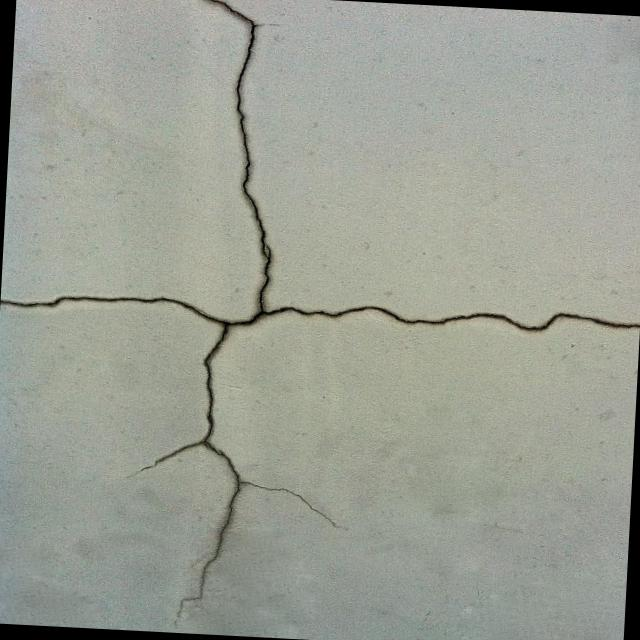crack: (1, 0, 345, 627), (266, 304, 640, 331)
